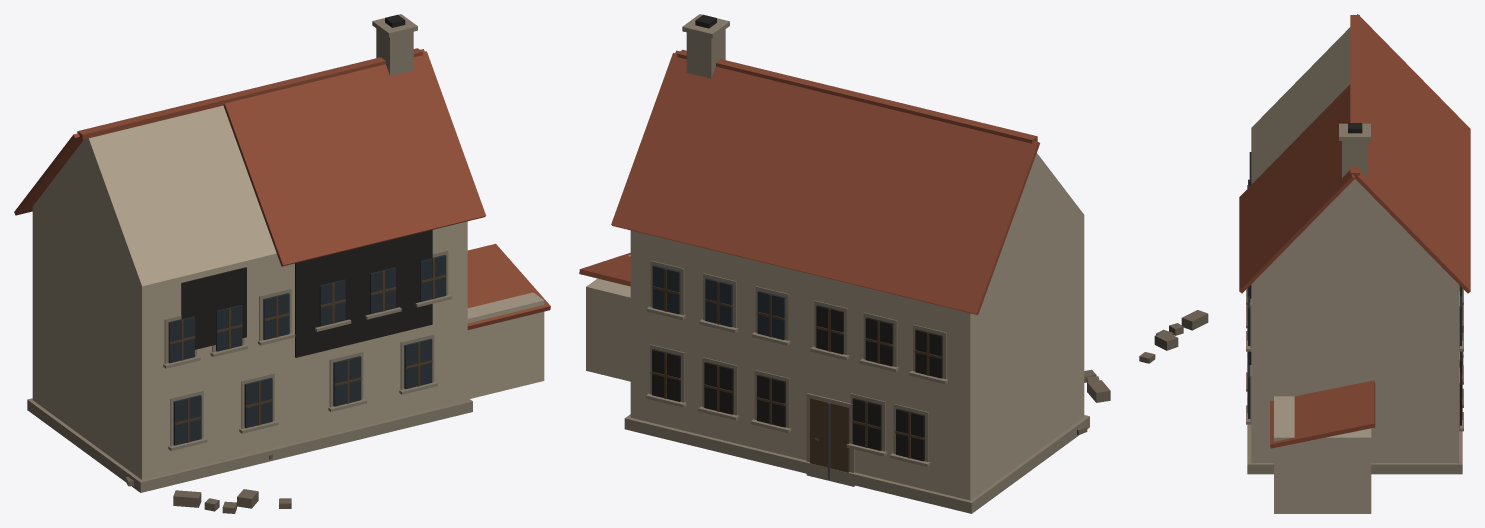
Rendered from house_normandy_l_damaged.glb.
3 views of the same model, side by side, from view 1: azimuth 30°, elevation 25°; view 2: azimuth 150°, elevation 25°; view 3: azimuth 270°, elevation 25° (orthographic). The views are drawn at different scales.
Parts seen in each view (by area): view 1: house_normandy_l_damaged; view 2: house_normandy_l_damaged; view 3: house_normandy_l_damaged.
Boxes of the visible parts, <box> form: house_normandy_l_damaged: <box>14,14,550,513</box>; house_normandy_l_damaged: <box>579,14,1110,513</box>; house_normandy_l_damaged: <box>1139,14,1470,513</box>.
Bounding box in the file's own units: 14.57 × 11.61 × 10.22.
